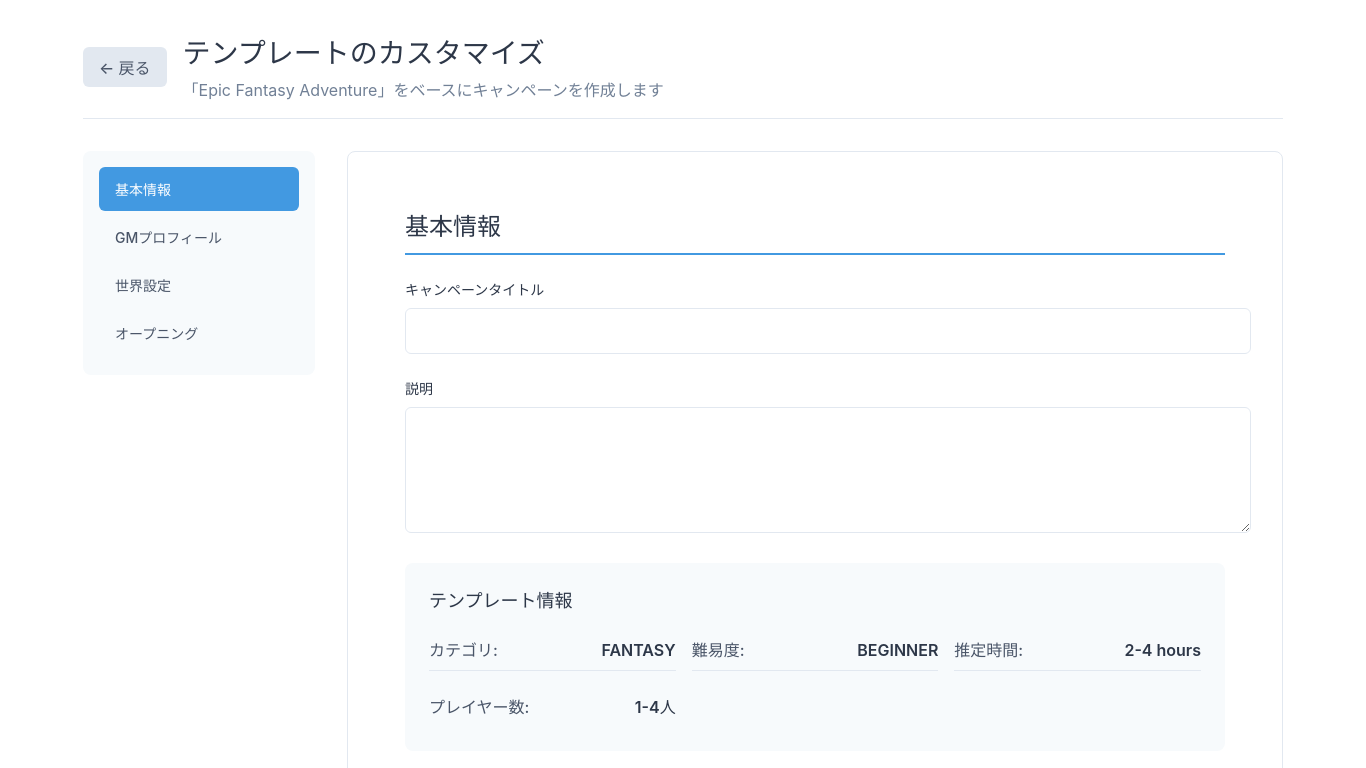
Test: TemplateCustomizer Security Tests › XSS Prevention › should handle malicious content in textarea fields
Note: Navigate to GM profile section
Click the button "GMプロフィール" at [199, 237], box [99, 215, 299, 259]
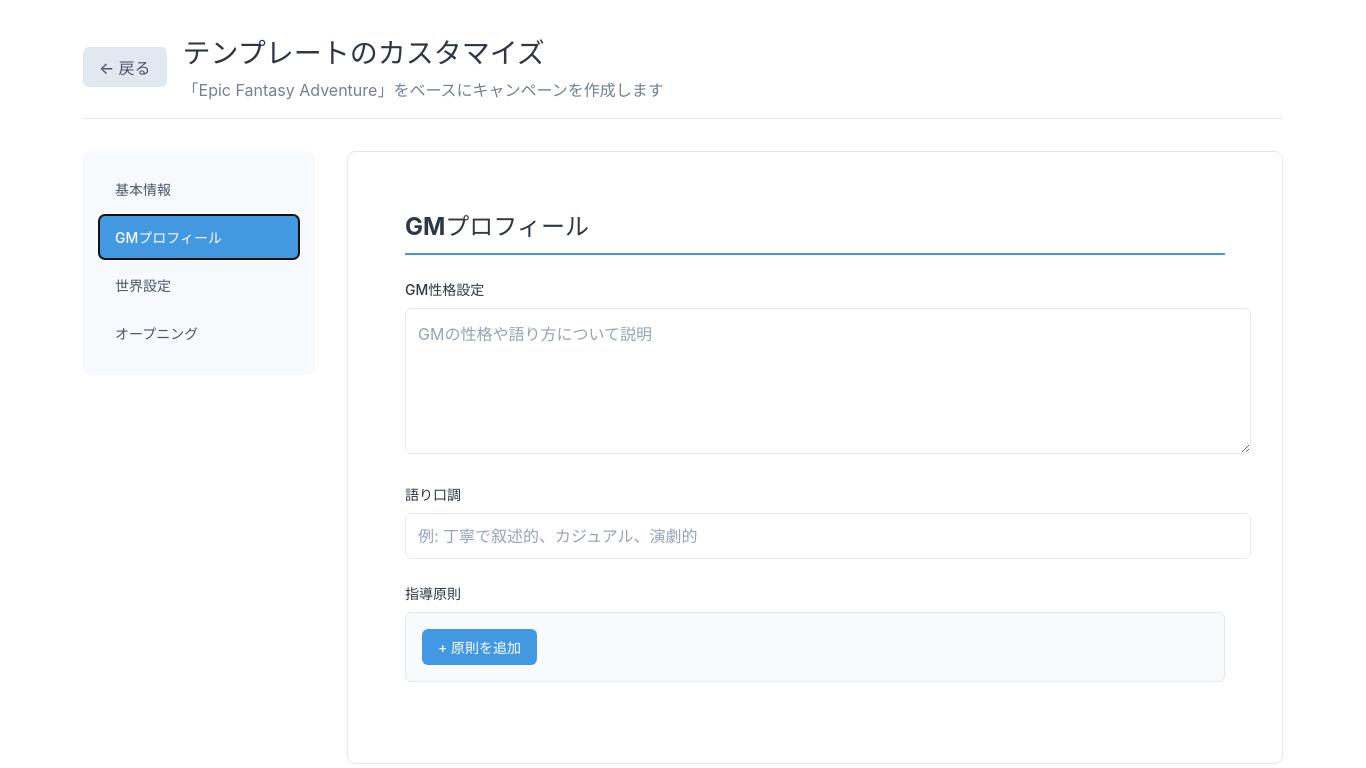
Clear the text box labelled "GM性格設定" at [828, 381], box [405, 308, 1251, 454]
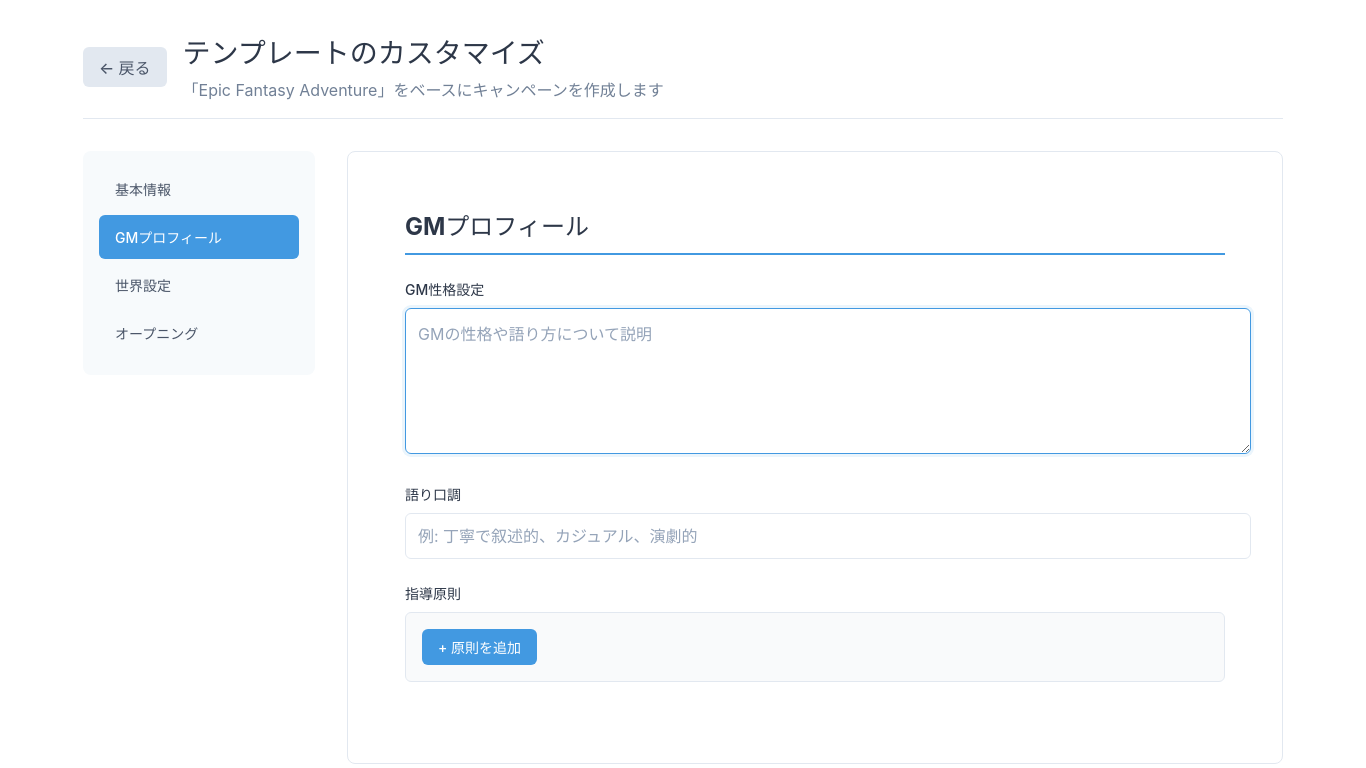
Type keys "<script>alert(\"textarea-xss\")</script>Evil GM personality"
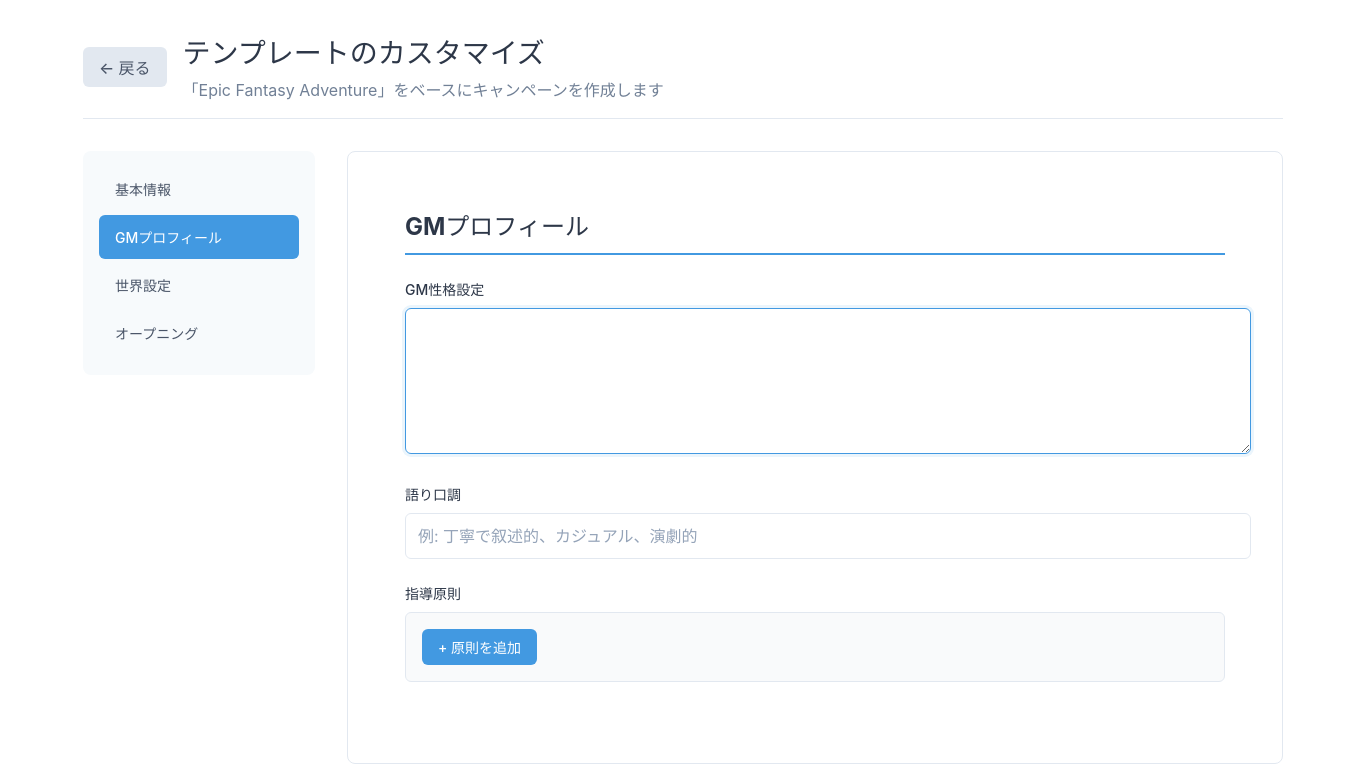
Expected: the text box labelled "GM性格設定" holds "<script>alert(\"textarea-xss\")</script>Evil GM personality", [405, 308, 1251, 454]
